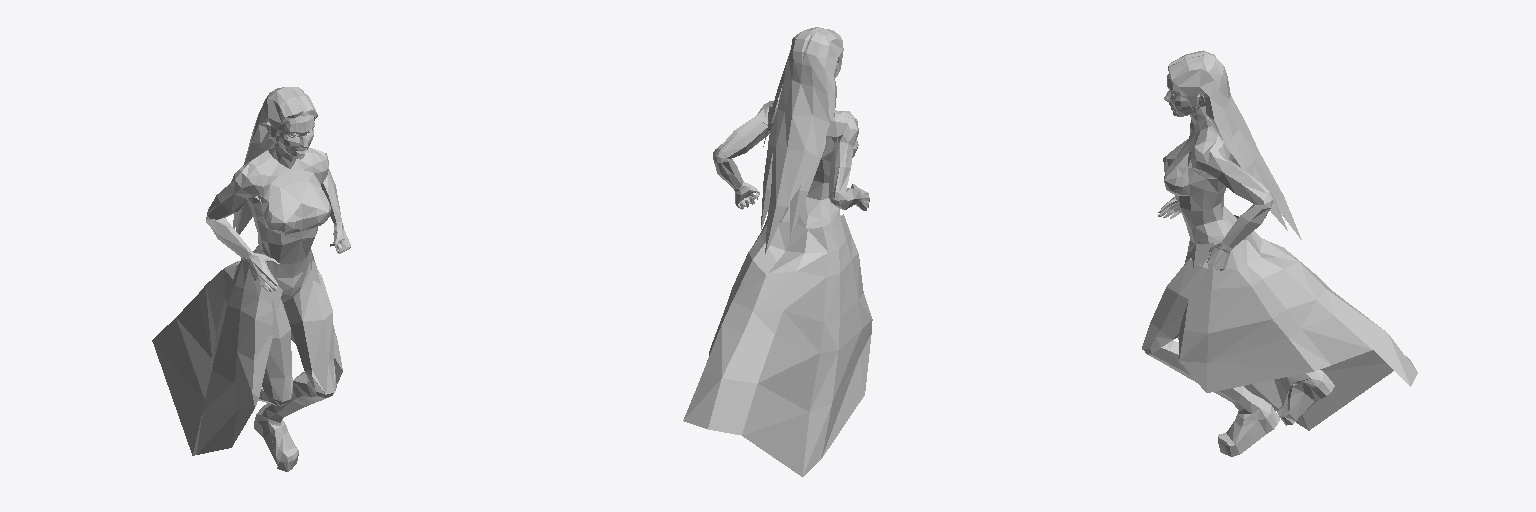
Rendered from running_020.obj.
3 views of the same model, side by side, from view 1: azimuth 30°, elevation 25°; view 2: azimuth 150°, elevation 25°; view 3: azimuth 270°, elevation 25° (orthographic).
Parts seen in each view (by area): view 1: Plane.001_Plane.007, Plane.003_Plane.008, capelli.001_Plane.006; view 2: Plane.003_Plane.008, capelli.001_Plane.006, Plane.001_Plane.007; view 3: Plane.003_Plane.008, Plane.001_Plane.007, capelli.001_Plane.006.
Boxes of the visible parts, box(x1,y1,x2,y2) form: Plane.001_Plane.007: box(206, 97, 350, 471); Plane.003_Plane.008: box(152, 253, 342, 455); capelli.001_Plane.006: box(233, 87, 317, 234); Plane.003_Plane.008: box(683, 214, 872, 476); capelli.001_Plane.006: box(761, 27, 843, 254); Plane.001_Plane.007: box(713, 65, 869, 229); Plane.003_Plane.008: box(1179, 215, 1417, 430); Plane.001_Plane.007: box(1142, 58, 1334, 456); capelli.001_Plane.006: box(1168, 50, 1301, 239).
Bounding box in the file's own units: 1.71 × 5.04 × 3.17.